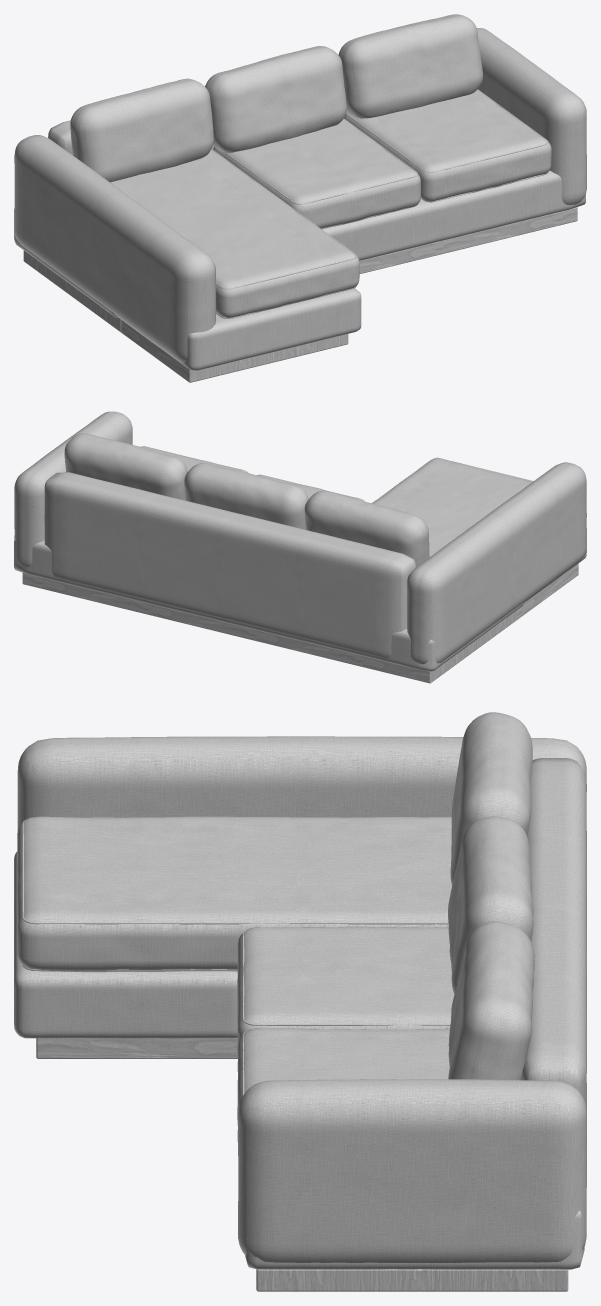
File: sofa-l-2.4m.gltf
The picture shows the model from 3 angles, top to bottom: view 1: azimuth 30°, elevation 25°; view 2: azimuth 150°, elevation 25°; view 3: azimuth 270°, elevation 25°; orthographic projection. The views are drawn at different scales.
Parts seen in each view (by area): view 1: sofa-l; view 2: sofa-l; view 3: sofa-l.
Boxes of the visible parts, x1,y1,x2,y2 form: sofa-l: [14, 14, 586, 382]; sofa-l: [14, 411, 586, 683]; sofa-l: [14, 712, 586, 1291].
Bounding box in the file's own units: 2.4 × 0.7819 × 1.56.
Materials: 2 (2 with a texture image).
